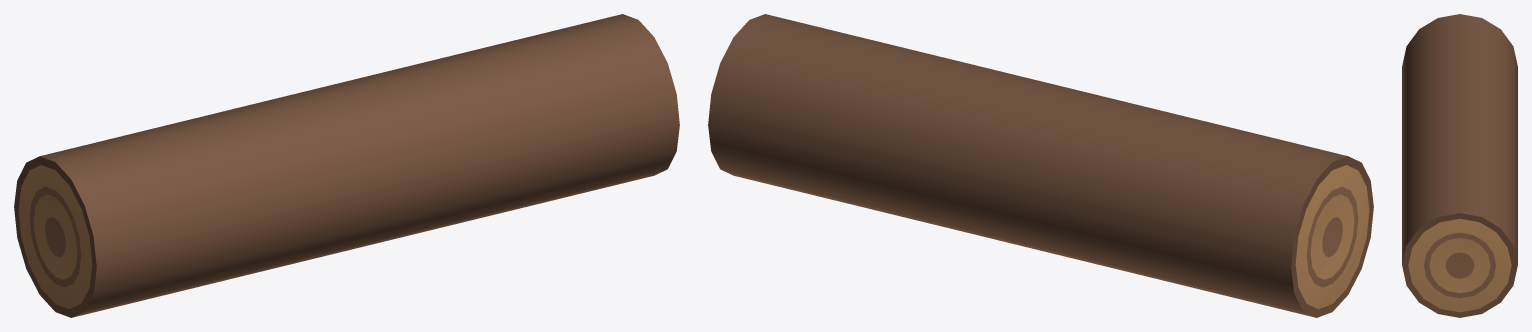
Rendered from wood l.fbx.
The picture shows the model from 3 angles, left to right: view 1: azimuth 30°, elevation 25°; view 2: azimuth 150°, elevation 25°; view 3: azimuth 270°, elevation 25°; orthographic projection. The views are drawn at different scales.
Visible parts, largest first — view 1: long_wood; view 2: long_wood; view 3: long_wood.
Part boxes in pixels (x1,y1,x2,y2): long_wood: [14, 14, 679, 317]; long_wood: [708, 14, 1373, 317]; long_wood: [1402, 14, 1517, 317].
Size of the model in its own units: 14.43 by 3.55 by 3.55.
1 material, 1 textured.
